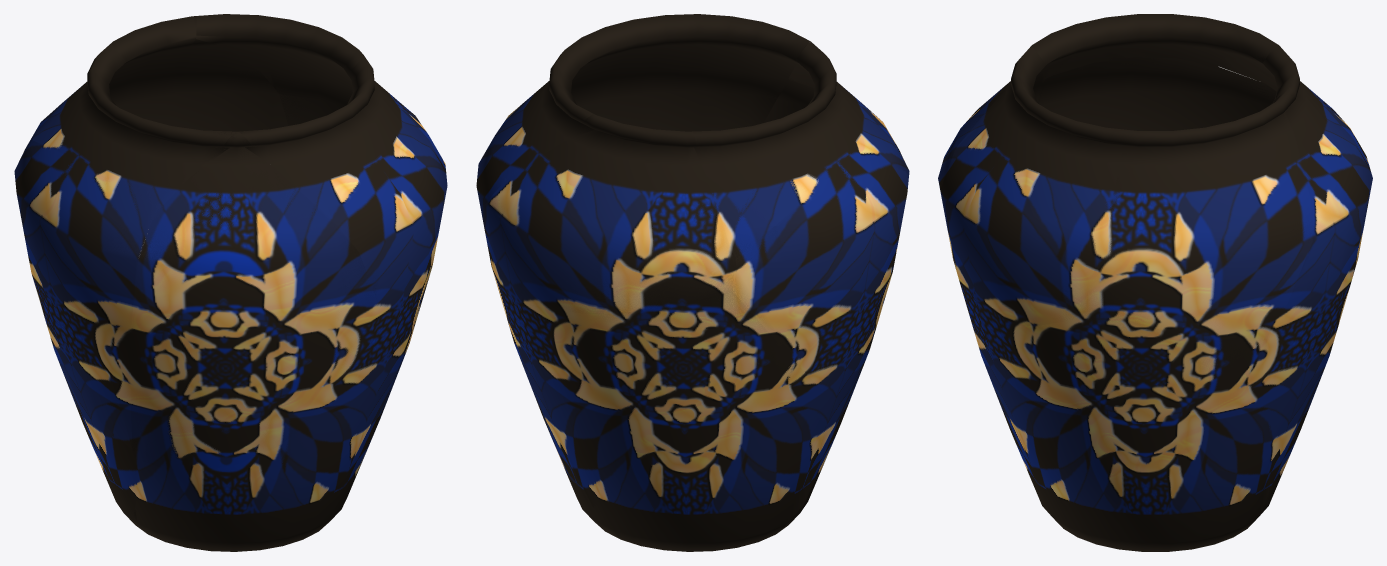
Rendered from vase.003.fbx.
3 renders of one model, left to right at view 1: azimuth 30°, elevation 25°; view 2: azimuth 150°, elevation 25°; view 3: azimuth 270°, elevation 25°, orthographic.
Parts seen in each view (by area): view 1: vase.007, vase.007_cell.007, vase.007_cell.004, vase.007_cell.003, vase.007_cell.006, vase.007_cell.001, vase.007_cell.005, vase.007_cell.002, vase.007_cell; view 2: vase.007_cell, vase.007, vase.007_cell.005, vase.007_cell.004, vase.007_cell.001, vase.007_cell.003, vase.007_cell.002, vase.007_cell.007; view 3: vase.007, vase.007_cell.006, vase.007_cell.002, vase.007_cell.003, vase.007_cell.005, vase.007_cell.004, vase.007_cell.001, vase.007_cell, vase.007_cell.007.
Boxes of the visible parts, x1,y1,x2,y2 form: vase.007: [14, 14, 447, 547]; vase.007_cell.007: [130, 132, 374, 470]; vase.007_cell.004: [16, 140, 158, 449]; vase.007_cell.003: [239, 57, 447, 300]; vase.007_cell.006: [134, 317, 408, 551]; vase.007_cell.001: [32, 43, 232, 208]; vase.007_cell.005: [50, 16, 288, 131]; vase.007_cell.002: [196, 35, 388, 125]; vase.007_cell: [66, 381, 141, 525]; vase.007_cell: [505, 291, 841, 551]; vase.007: [476, 15, 909, 545]; vase.007_cell.005: [485, 114, 734, 313]; vase.007_cell.004: [733, 142, 908, 409]; vase.007_cell.001: [692, 54, 874, 258]; vase.007_cell.003: [580, 14, 808, 131]; vase.007_cell.002: [476, 54, 603, 266]; vase.007_cell.007: [764, 63, 895, 146]; vase.007: [938, 33, 1372, 551]; vase.007_cell.006: [977, 312, 1271, 551]; vase.007_cell.002: [1104, 94, 1312, 342]; vase.007_cell.003: [941, 46, 1123, 327]; vase.007_cell.005: [1262, 43, 1372, 330]; vase.007_cell.004: [1038, 57, 1276, 130]; vase.007_cell.001: [1045, 14, 1277, 91]; vase.007_cell: [1260, 241, 1361, 509]; vase.007_cell.007: [940, 70, 1045, 340].
Bounding box in the file's own units: 0.6715 × 0.7478 × 0.6764.
